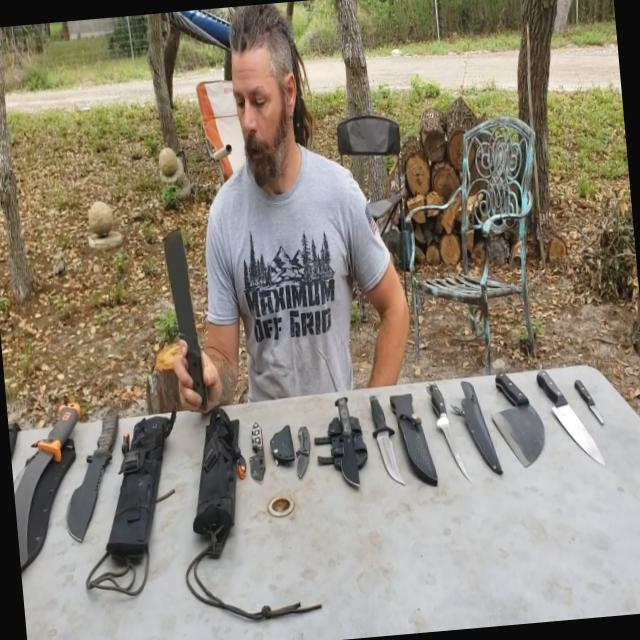knife: (5, 378, 104, 572), (142, 212, 215, 416), (47, 393, 142, 549), (528, 340, 614, 466), (473, 358, 555, 478), (412, 358, 474, 492), (357, 372, 407, 496), (323, 389, 362, 494), (236, 405, 276, 498), (289, 396, 316, 479), (572, 369, 606, 434)
